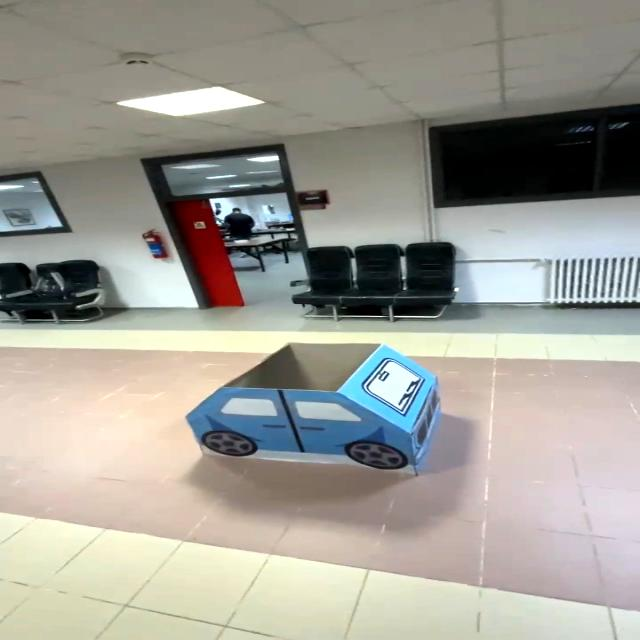blue_car: (157, 335, 477, 479)
